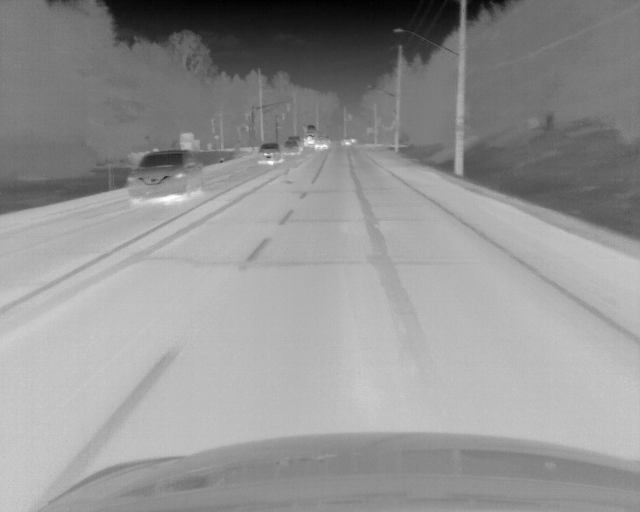car: (126, 147, 200, 198), (258, 142, 280, 163), (284, 136, 301, 155), (303, 126, 315, 148), (314, 136, 330, 151), (341, 138, 353, 147)
